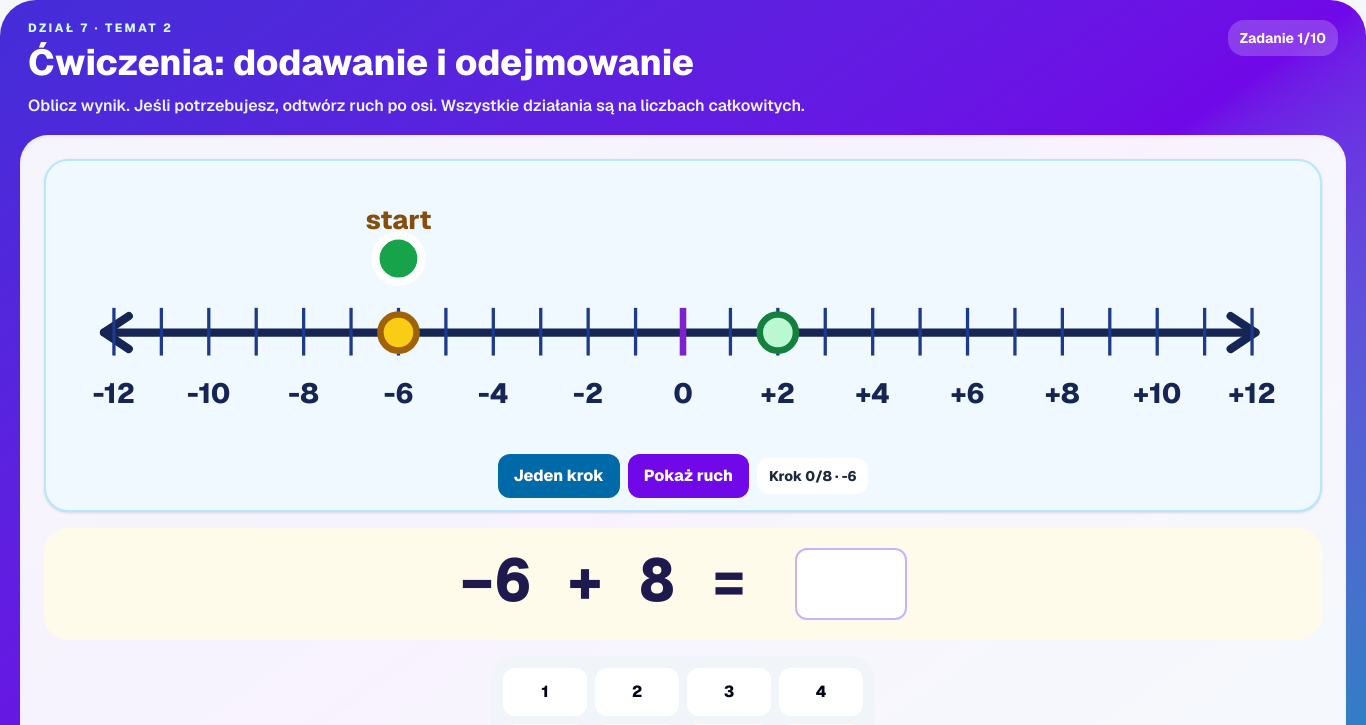
IntegerAddSubtractLessonLab › pozwala wpisać wynik tylko klawiaturą lekcyjną i pokazać ruch po osi
The image size is (1366, 725).
Click the button "Jeden krok" at (559, 476), box [498,454,620,498]
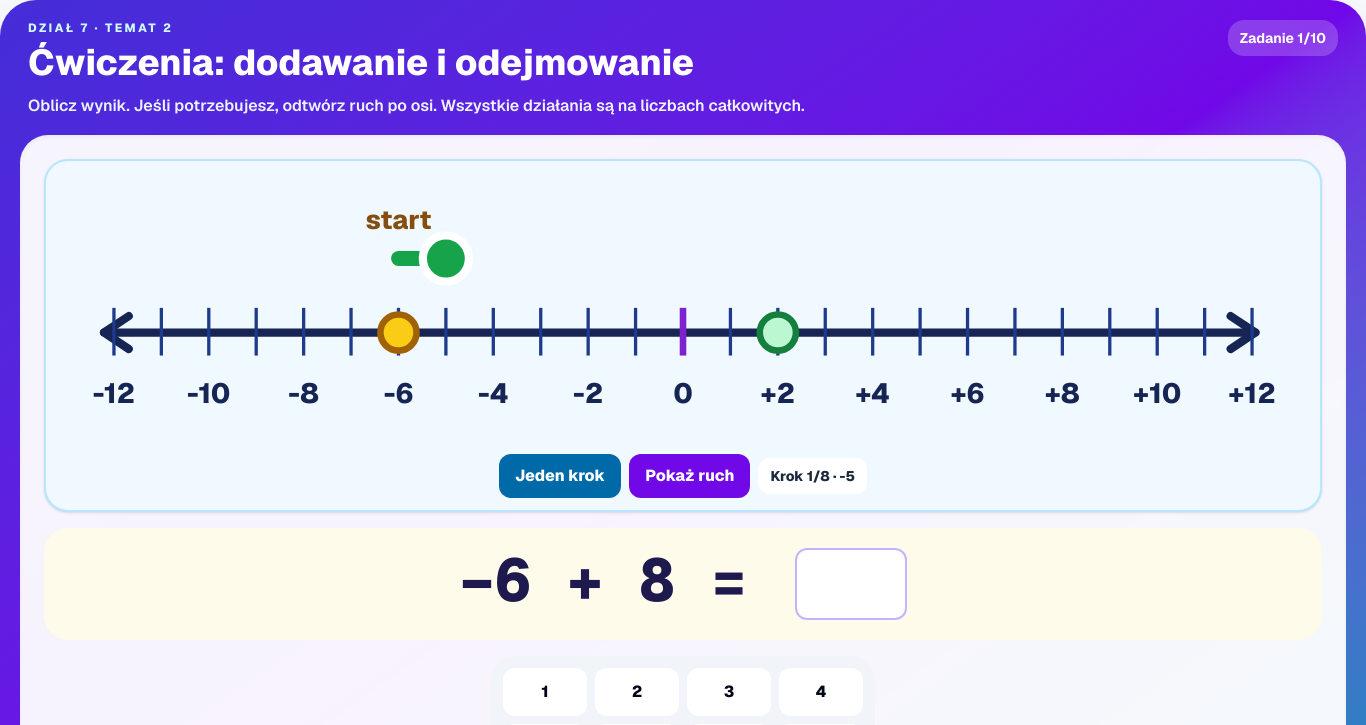
Result: the text "Krok 1/8 · -5" is shown at [758,458,867,494]
Click the button "2" at (637, 692), box [595,668,679,716]
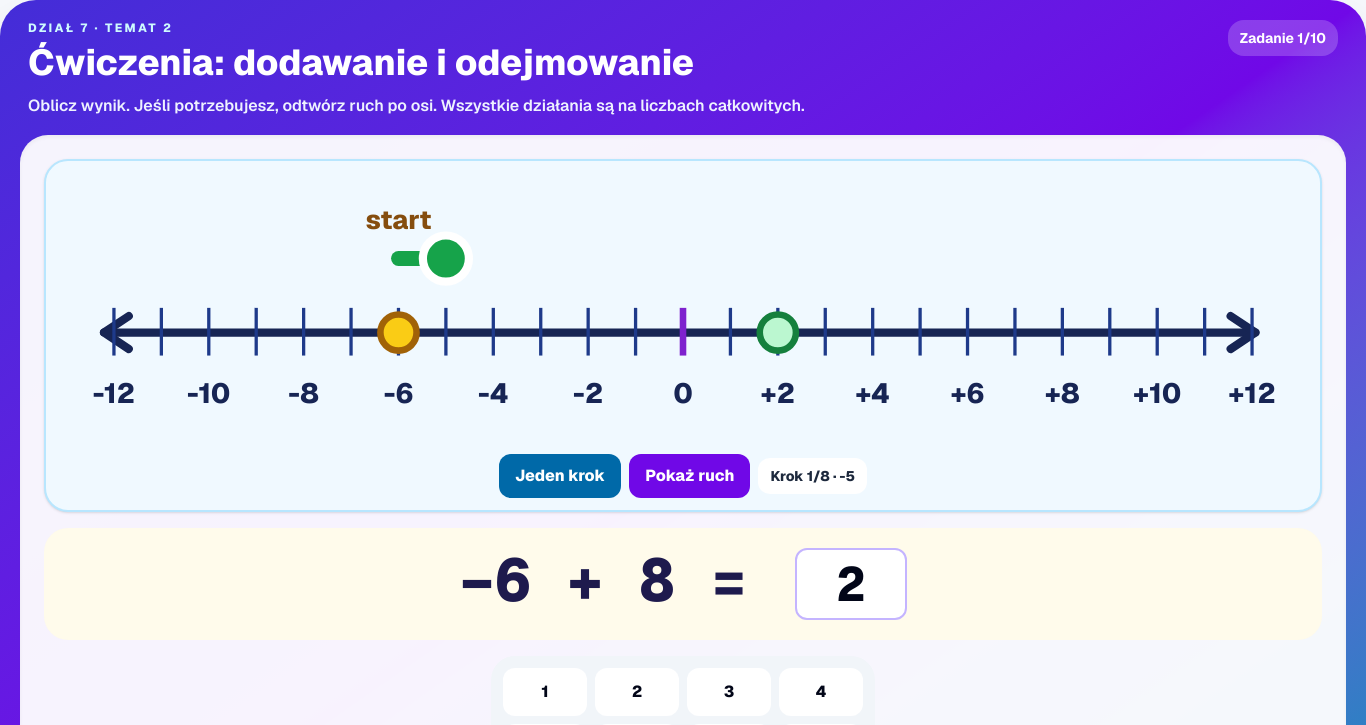
Result: the field named "Wynik działania −6 + 8" holds "2" at [795,548,907,620]
